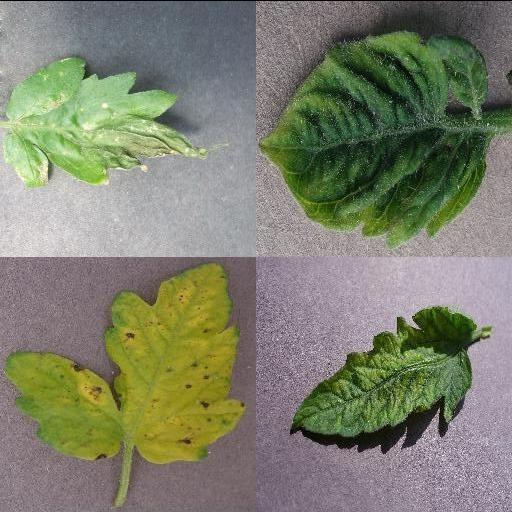Late Blight: (3, 54, 209, 188)
Mosaic Virus: (290, 307, 476, 437)
Septoria: (6, 261, 246, 465)
Yellow Leaf Curl Virus: (257, 26, 489, 248)
